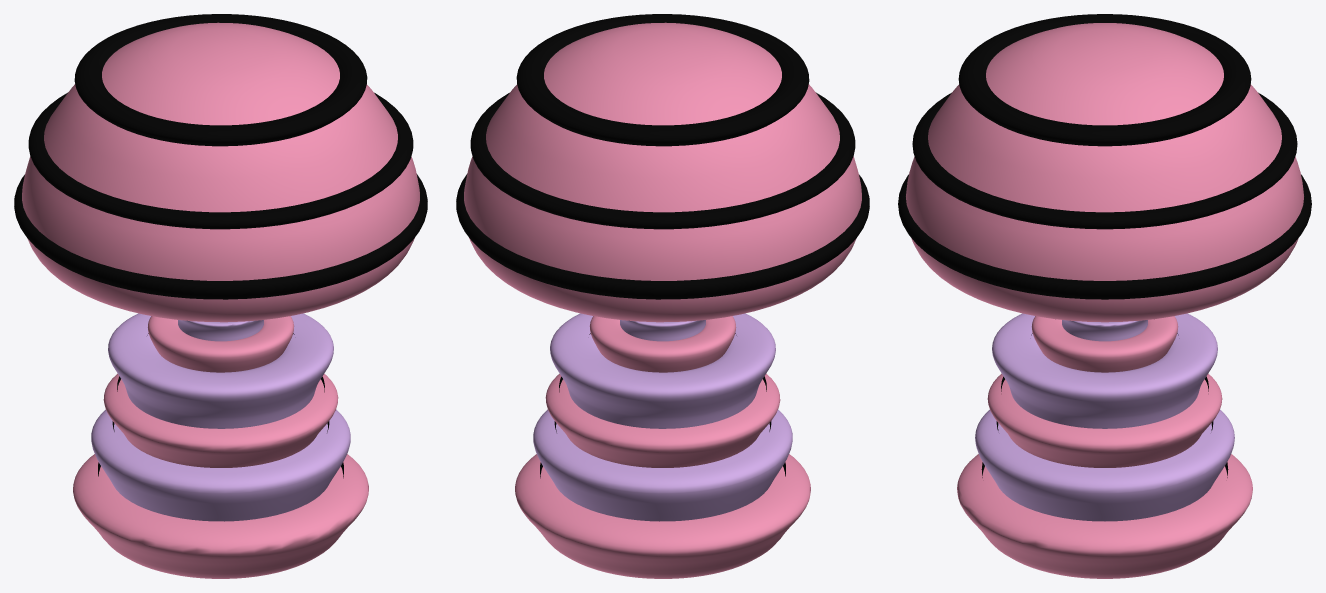
The model's file is shroom_12.glb.
3 renders of one model, left to right at view 1: azimuth 30°, elevation 25°; view 2: azimuth 150°, elevation 25°; view 3: azimuth 270°, elevation 25°, orthographic.
Parts seen in each view (by area): view 1: r.0019; view 2: r.0019; view 3: r.0019.
Part boxes in pixels (left/top/right/bottom): r.0019: left=14, top=14, right=427, bottom=578; r.0019: left=456, top=14, right=869, bottom=578; r.0019: left=898, top=14, right=1311, bottom=578.
Size of the model in its own units: 0.8983 by 1.18 by 0.8983.
